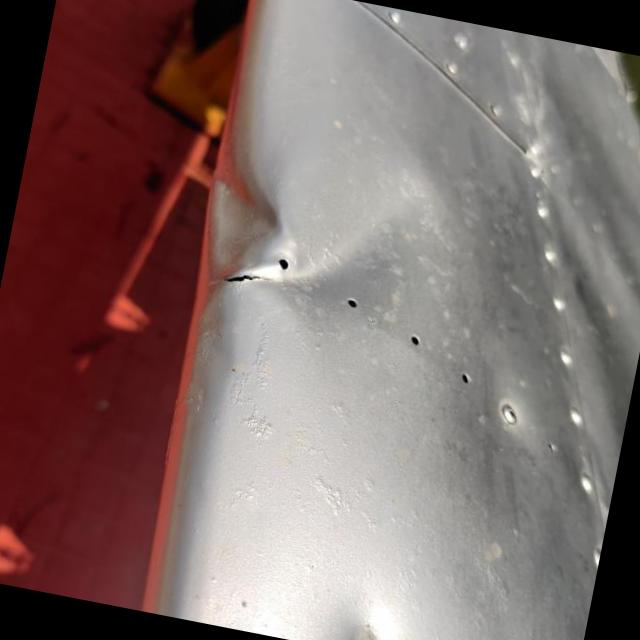Crack: (222, 266, 284, 288)
Dent: (195, 119, 292, 308)
